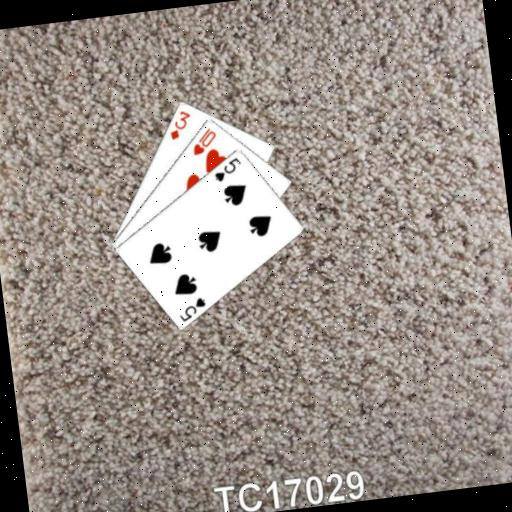10H: (188, 124, 220, 157)
3D: (165, 107, 195, 142)
5S: (210, 153, 245, 184), (175, 294, 210, 324)
